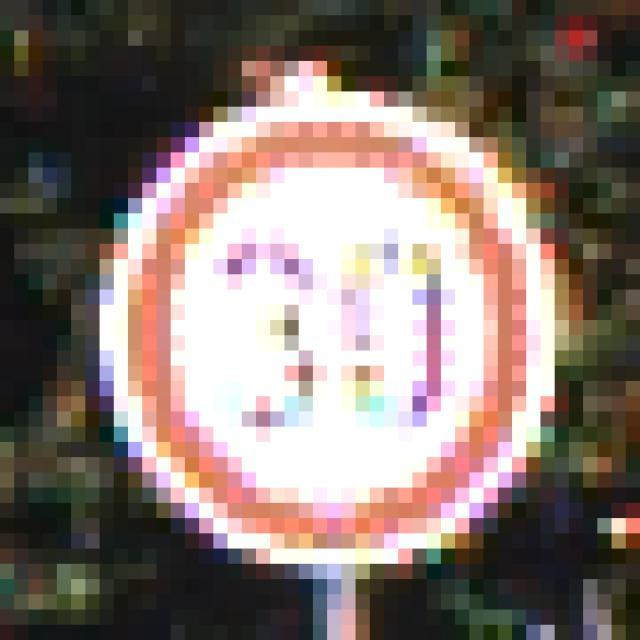Speed Limit -30-: (78, 69, 548, 542)
